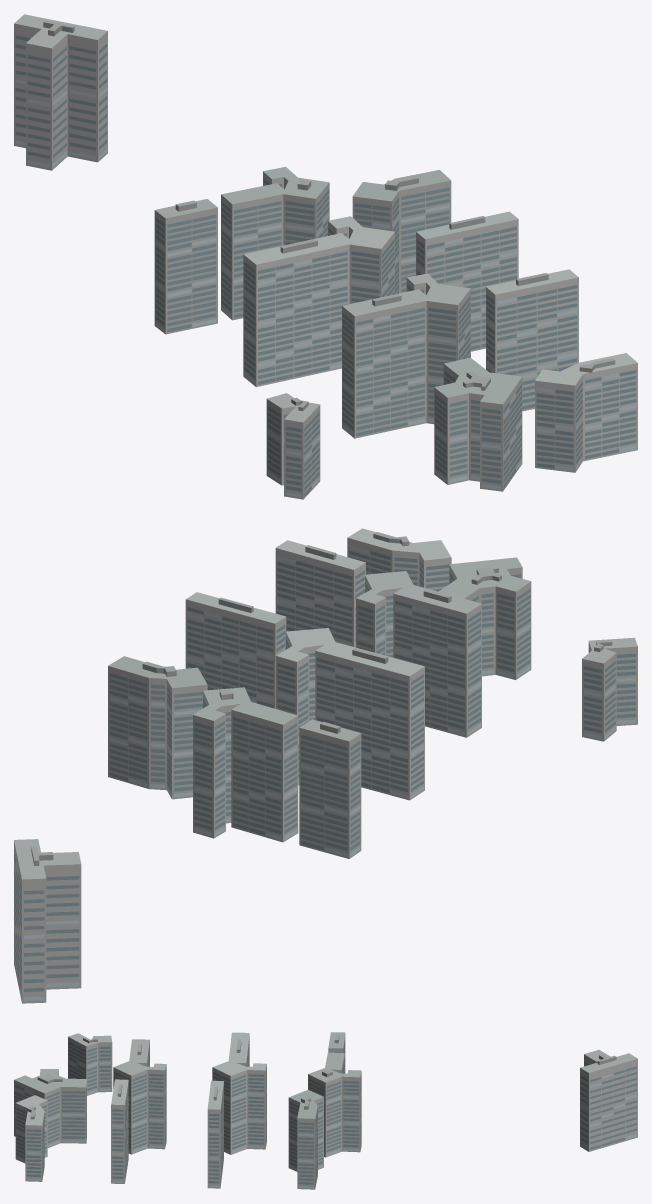
File: apt-a10026232.glb
3 views of the same model, one above another, from view 1: azimuth 30°, elevation 25°; view 2: azimuth 150°, elevation 25°; view 3: azimuth 270°, elevation 25° (orthographic). The views are drawn at different scales.
Visible parts, largest first — view 1: apt-a10026232; view 2: apt-a10026232; view 3: apt-a10026232.
Part boxes in pixels (x1=…): apt-a10026232: x1=14, y1=14, x2=637, y2=499; apt-a10026232: x1=14, y1=528, x2=637, y2=1003; apt-a10026232: x1=14, y1=1032, x2=637, y2=1189.
Bounding box in the file's own units: 167 × 60 × 412.
